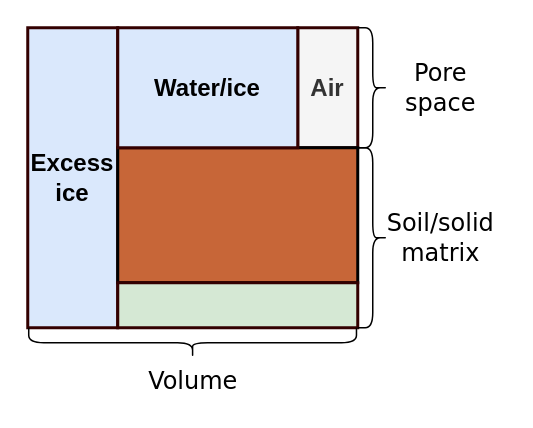
Image size: 533x428. Some labels were removed from this diagram. The centre of each missing label's shape, as x and y in pixels:
"Mineral" belongs at (x=237, y=215).
"Organic" belongs at (x=237, y=304).
